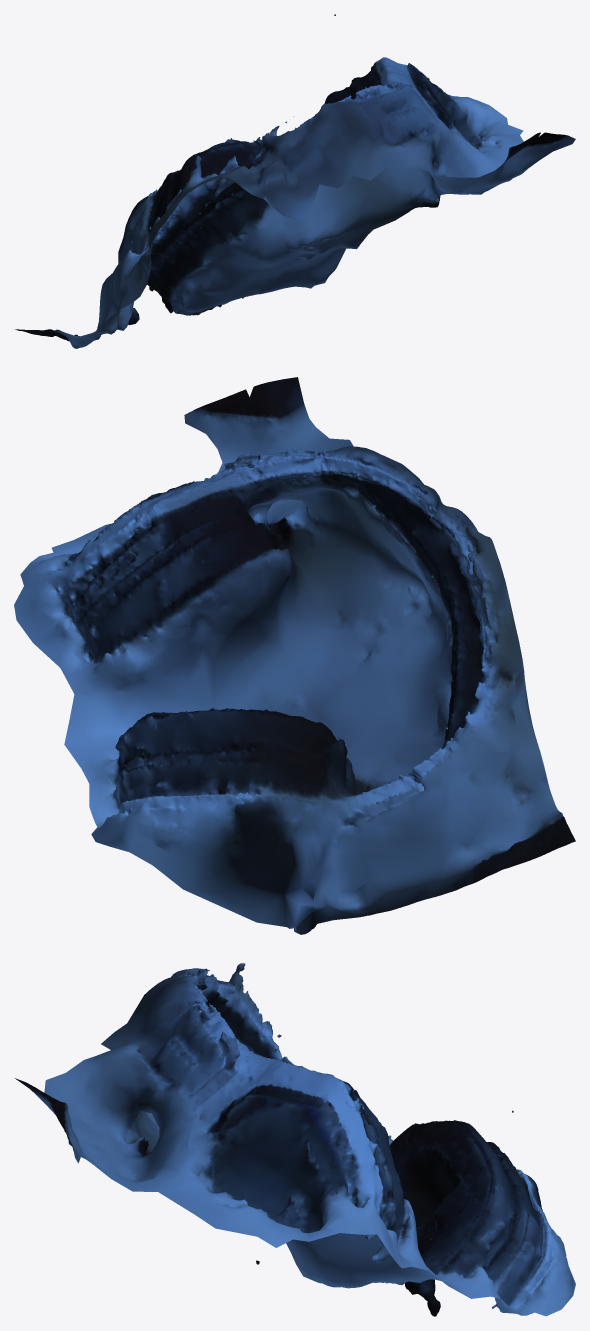
The model's file is Headsetrip.fbx.
3 renders of one model, top to bottom at view 1: azimuth 30°, elevation 25°; view 2: azimuth 150°, elevation 25°; view 3: azimuth 270°, elevation 25°, orthographic. The views are drawn at different scales.
Visible parts, largest first — view 1: Model; view 2: Model; view 3: Model.
Boxes of the visible parts, <box> form: Model: <box>15,14,575,348</box>; Model: <box>14,377,575,934</box>; Model: <box>14,963,575,1316</box>.
Bounding box in the file's own units: 3.95 × 3.3 × 2.34.
